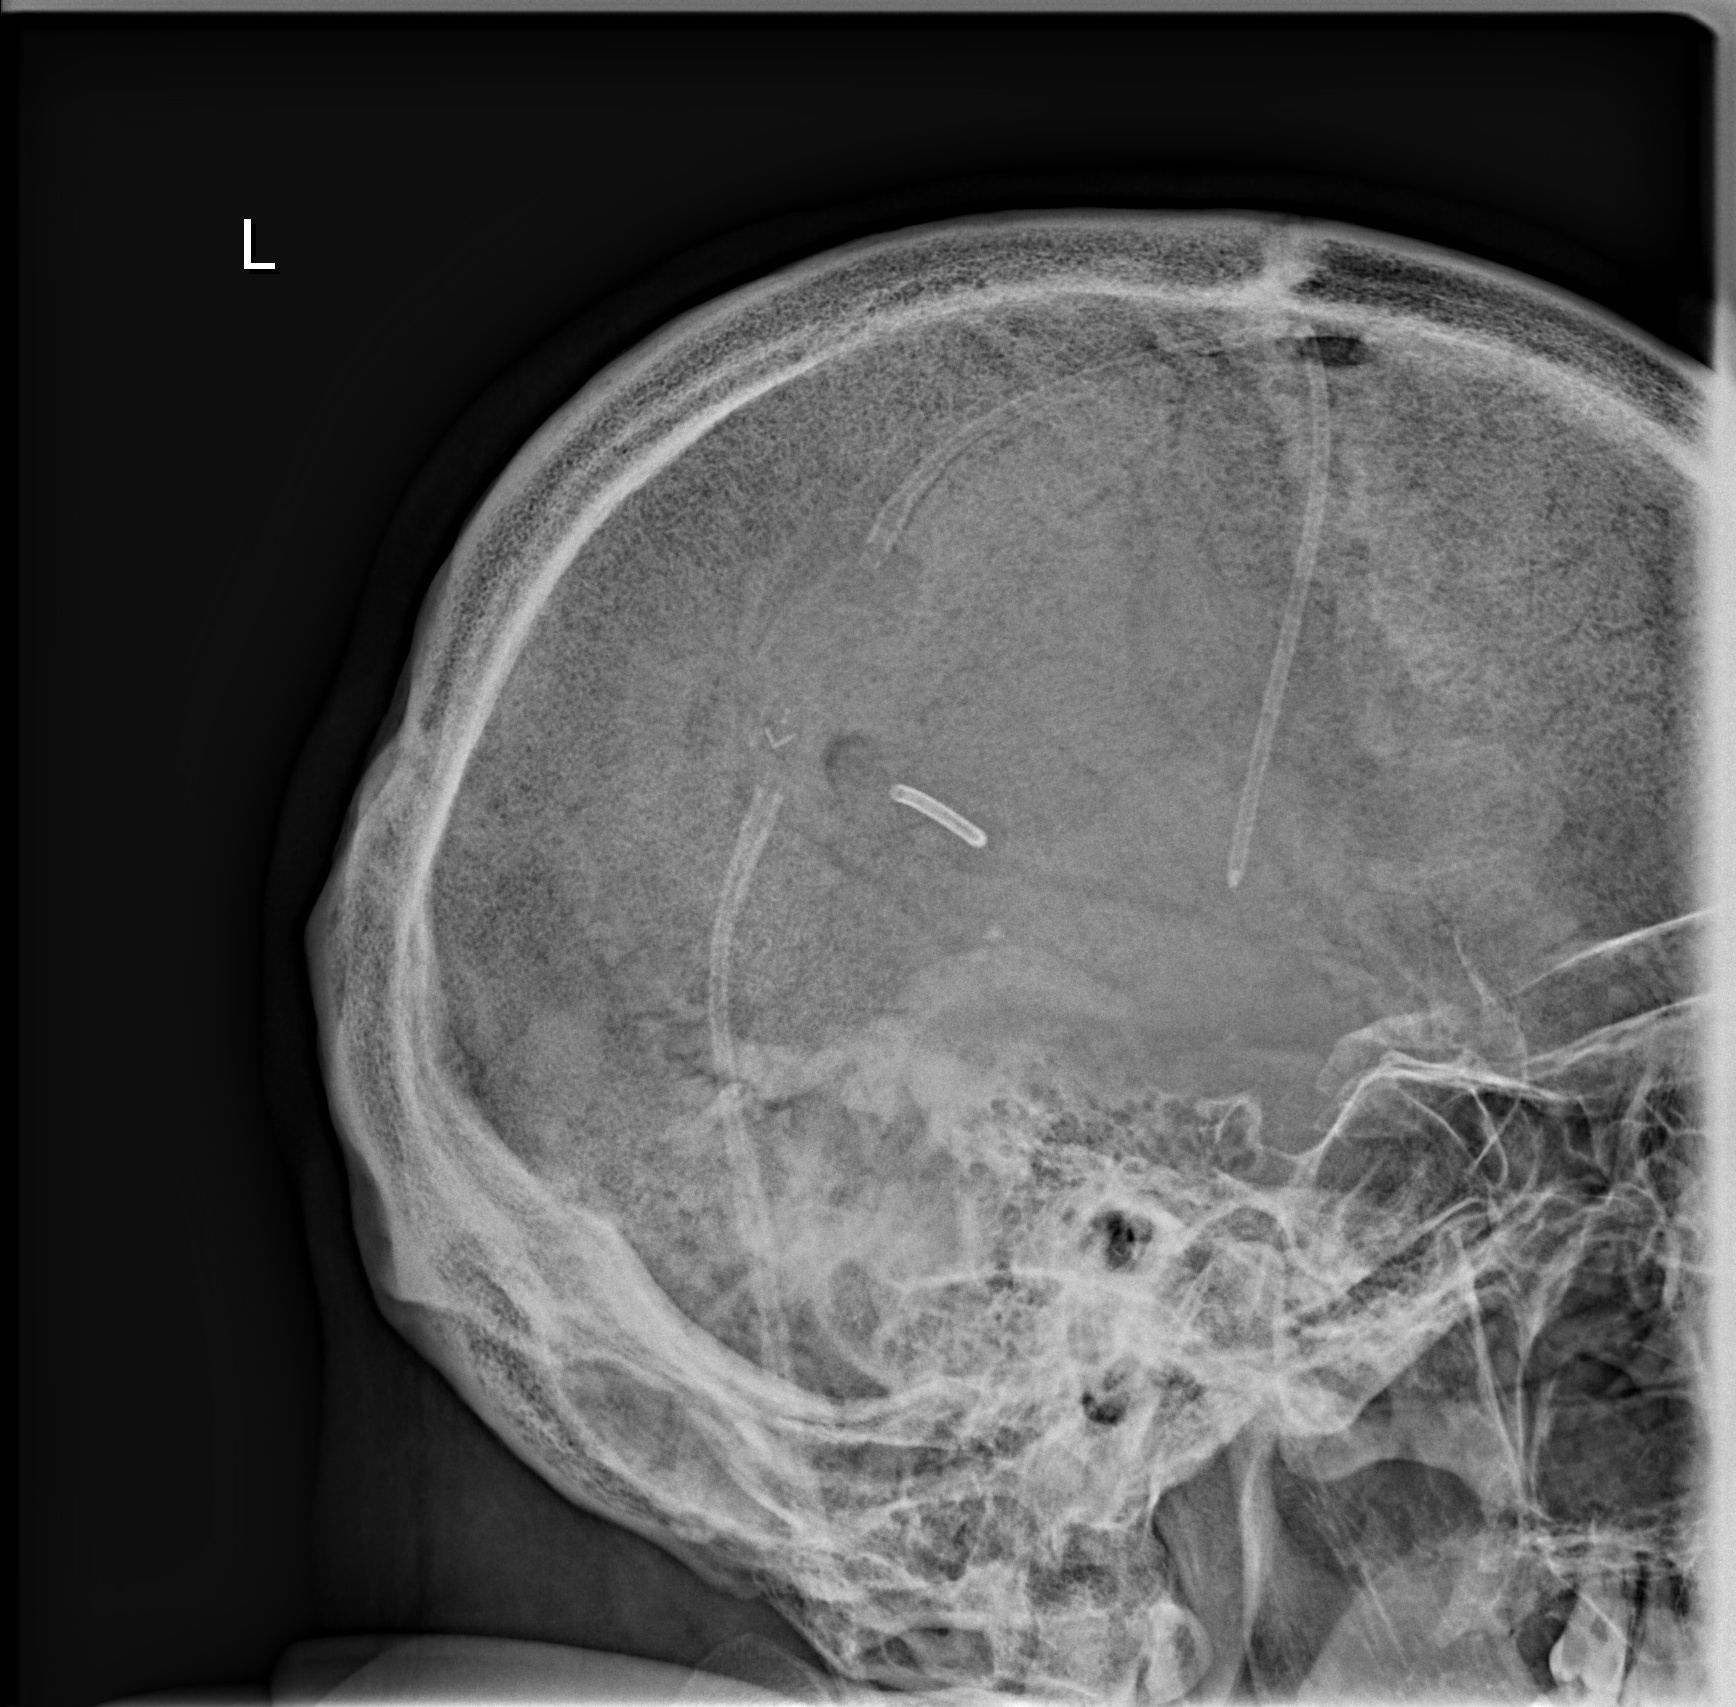Codman Uni-Shunt: (733, 546, 902, 822)
